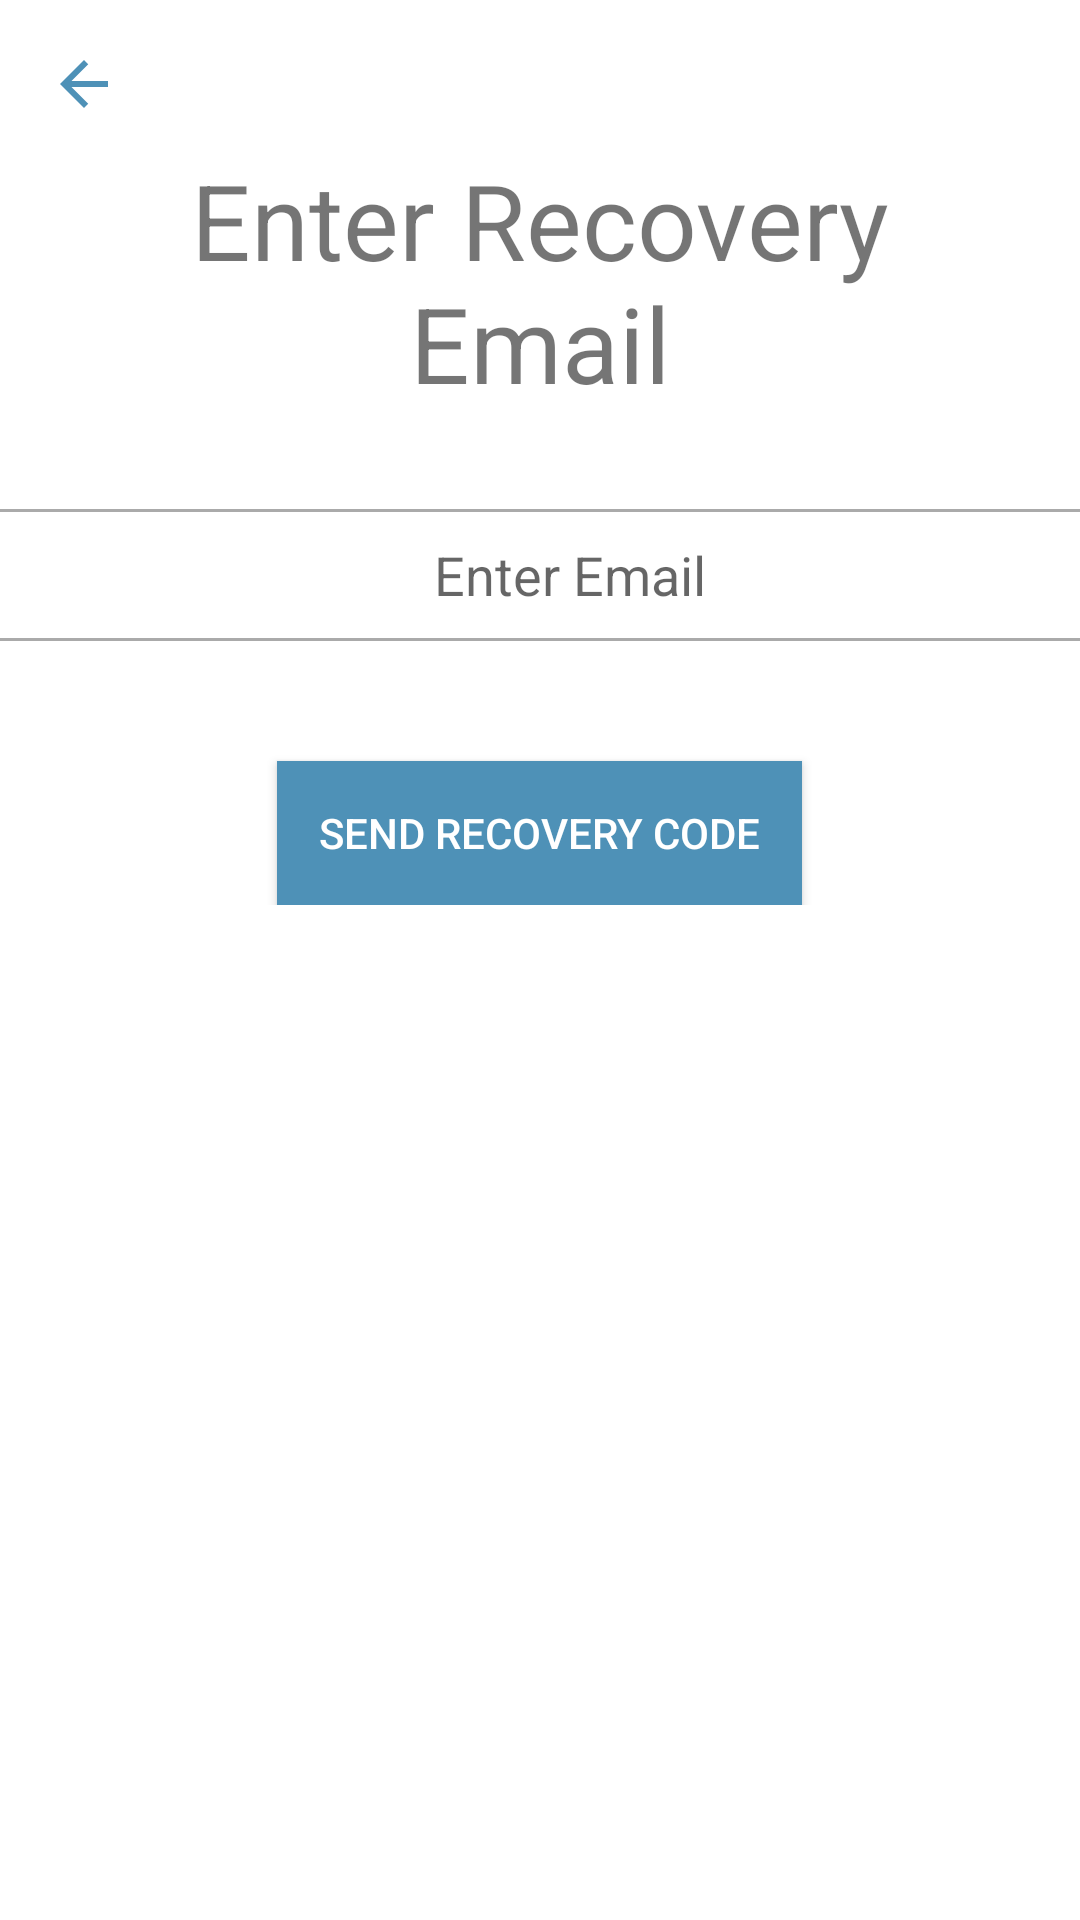

Icons on this 1080×1920 Android screen, each with its box as (x1, y1, x2, y2):
Return to previous page: (60, 60, 108, 108)
